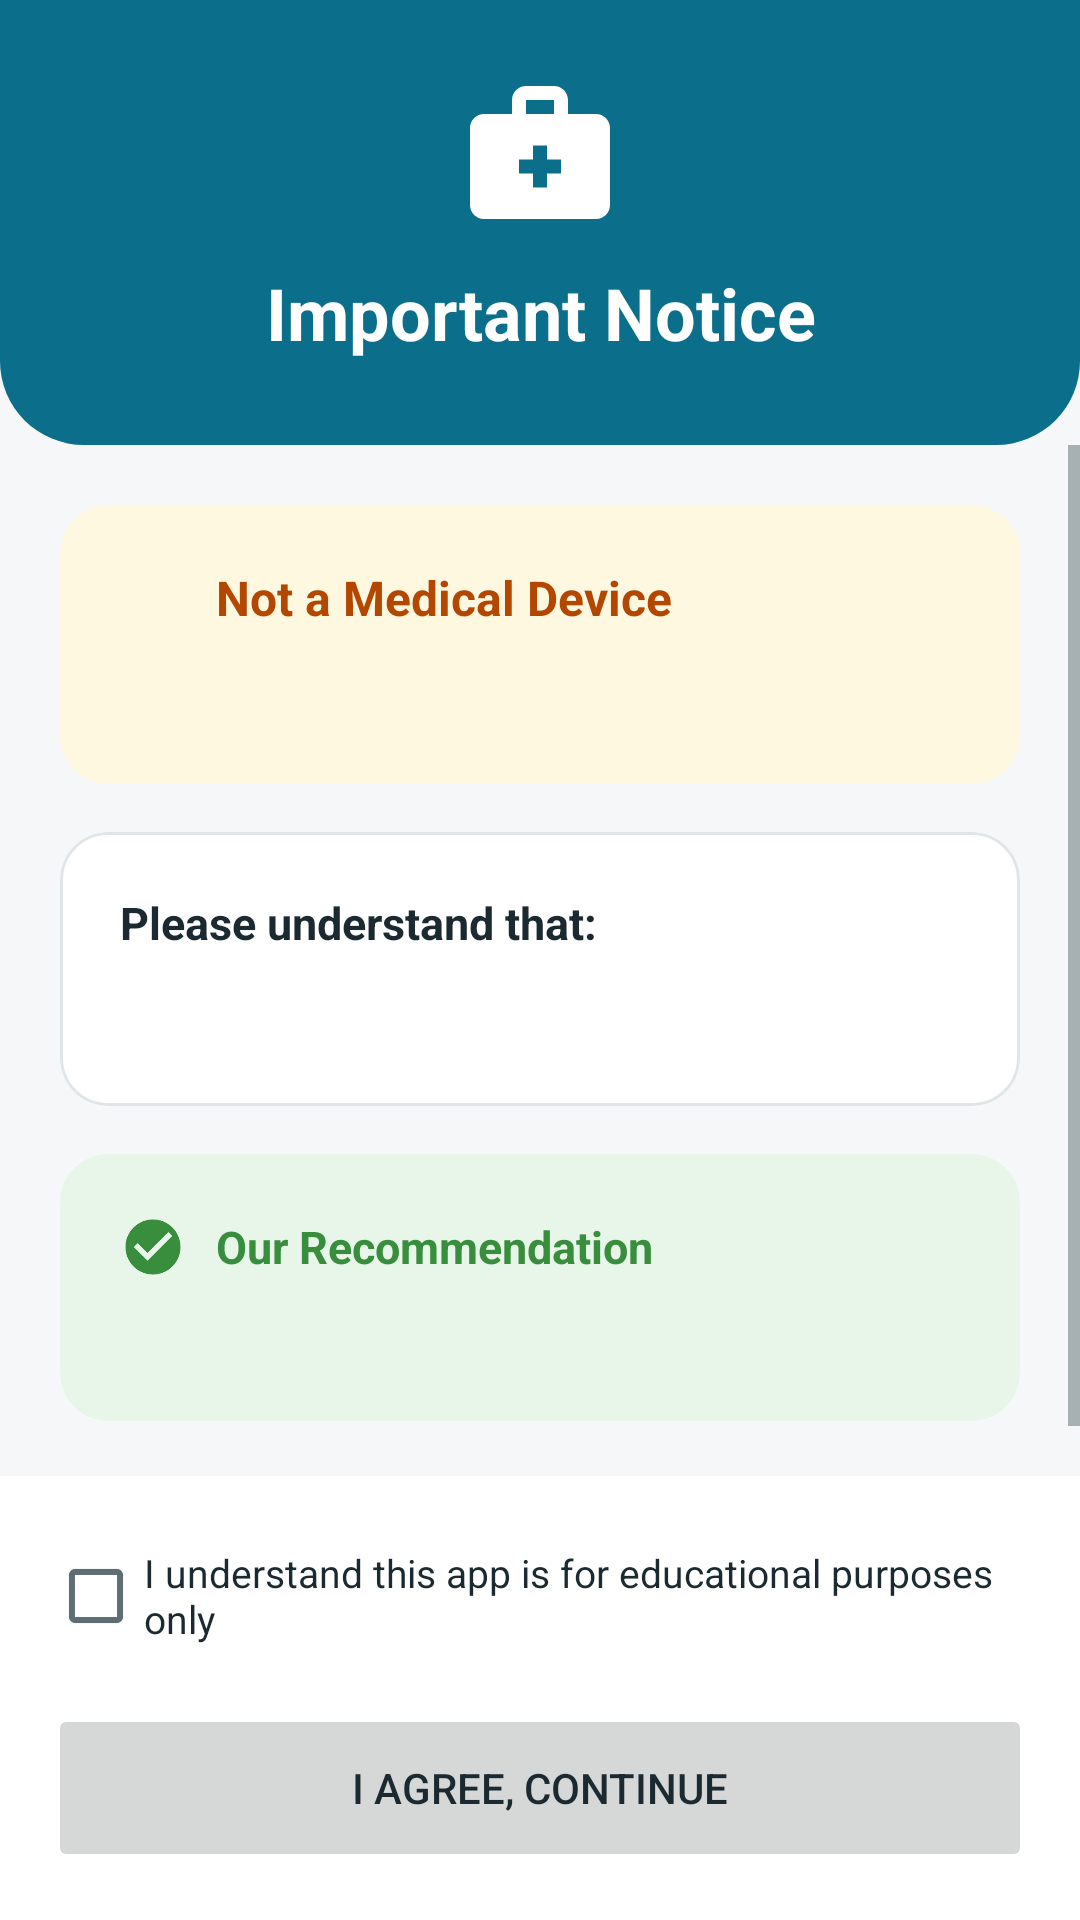

Where icons sit on this 1080*1920 app screen, as (x1, y1, x2, y2):
check circle: (125, 1219, 181, 1275)
medical services: (470, 86, 610, 219)
